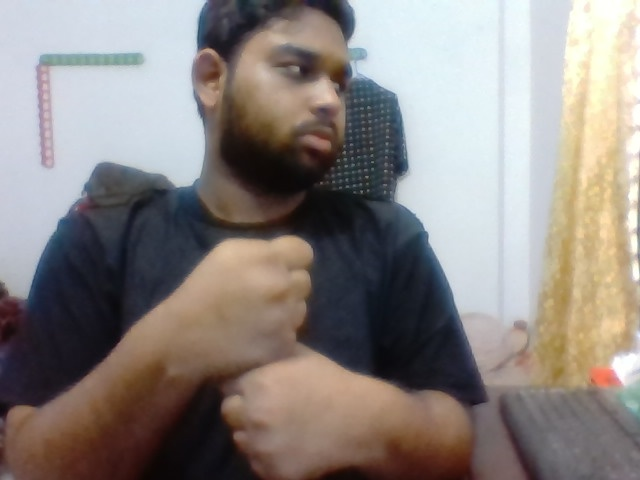G: (191, 229, 364, 480)
